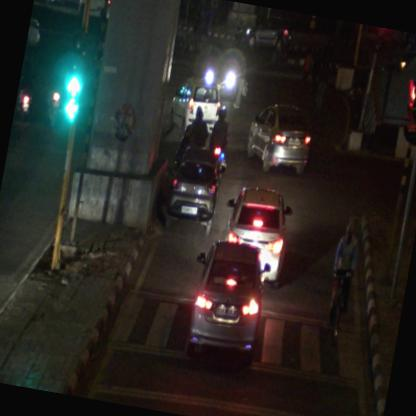motorcycle: (179, 238, 275, 366), (211, 180, 294, 294), (242, 98, 315, 181), (163, 144, 226, 236), (165, 76, 223, 139), (204, 106, 234, 180), (13, 58, 43, 125)
